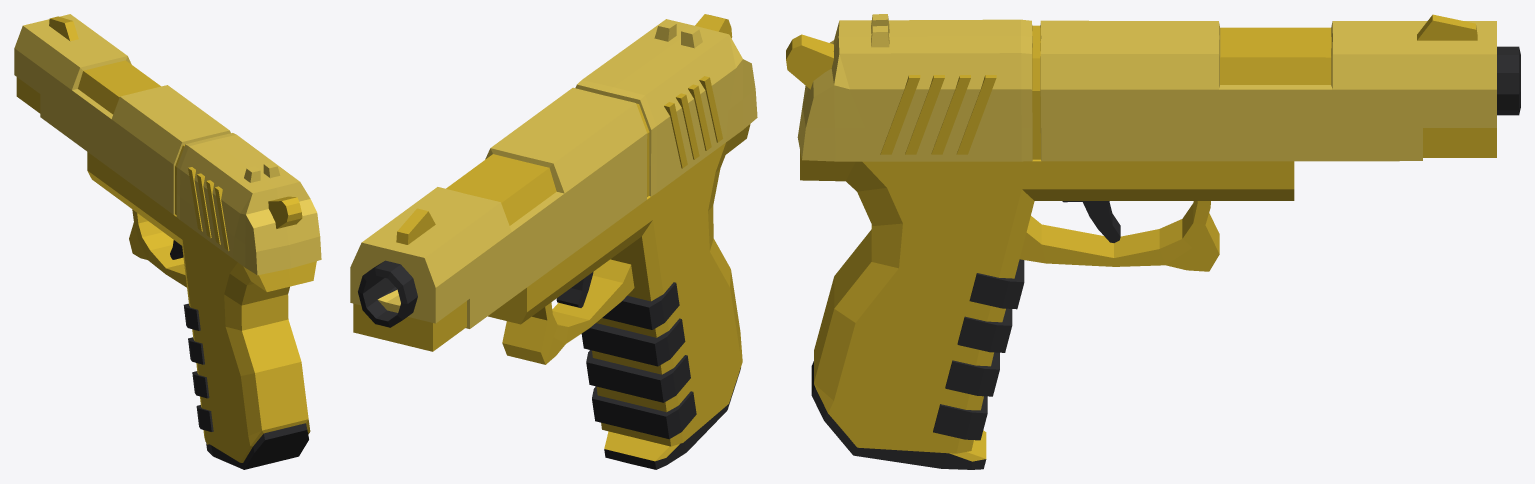
File: taser.glb
3 renders of one model, left to right at view 1: azimuth 30°, elevation 25°; view 2: azimuth 150°, elevation 25°; view 3: azimuth 270°, elevation 25°, orthographic. The views are drawn at different scales.
Parts seen in each view (by area): view 1: Pistol_5; view 2: Pistol_5; view 3: Pistol_5.
Part boxes in pixels (x1,y1,x2,y2): Pistol_5: [14, 14, 321, 469]; Pistol_5: [350, 14, 757, 469]; Pistol_5: [786, 14, 1520, 469].
Size of the model in its own units: 0.0302 by 0.1318 by 0.2.
Materials: 1 (1 with a texture image).
